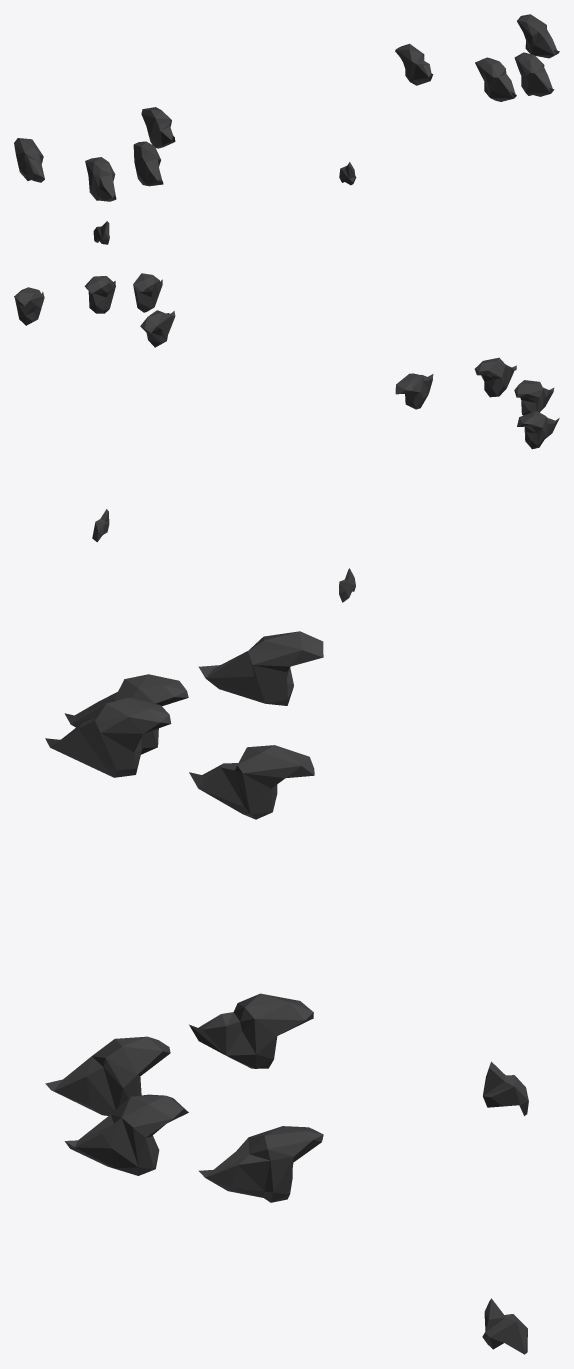
3 renders of one model, top to bottom at view 1: azimuth 30°, elevation 25°; view 2: azimuth 150°, elevation 25°; view 3: azimuth 270°, elevation 25°, orthographic. The views are drawn at different scales.
Parts seen in each view (by area): view 1: FL_P3; view 2: FL_P3; view 3: FL_P3.
Part boxes in pixels (bbox=[...]): FL_P3: bbox=[14, 14, 559, 244]; FL_P3: bbox=[14, 273, 559, 602]; FL_P3: bbox=[45, 631, 528, 1354].
Bounding box in the file's own units: 0.00467 × 0.00154 × 0.00186.
1 material, 1 textured.
